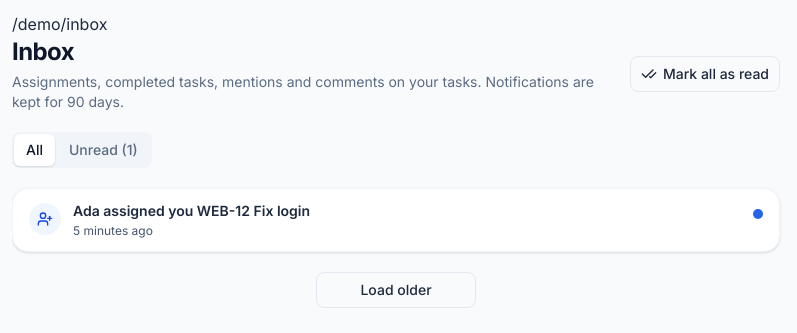
it: InboxPage › loads older notifications with the cursor and hides the button on the last page
Click the button "Load older".
click(396, 290)  # box x1=316 y1=272 x2=476 y2=308
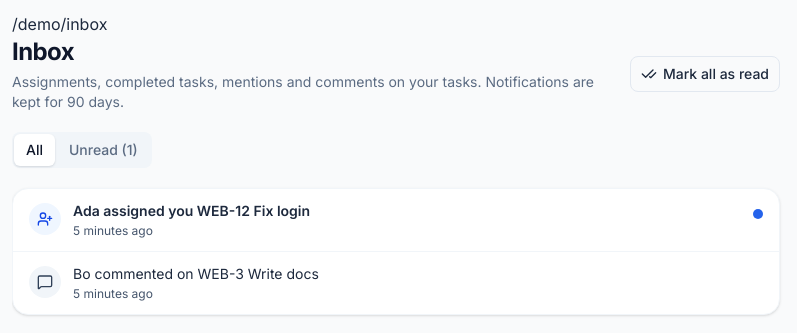
Expected: the text "Ada assigned you WEB-12 Fix login" is shown, x1=73 y1=202 x2=310 y2=219
Expected: the text "Bo commented on WEB-3 Write docs" is shown, x1=73 y1=265 x2=319 y2=282
Expected: the button "Load older" is gone
